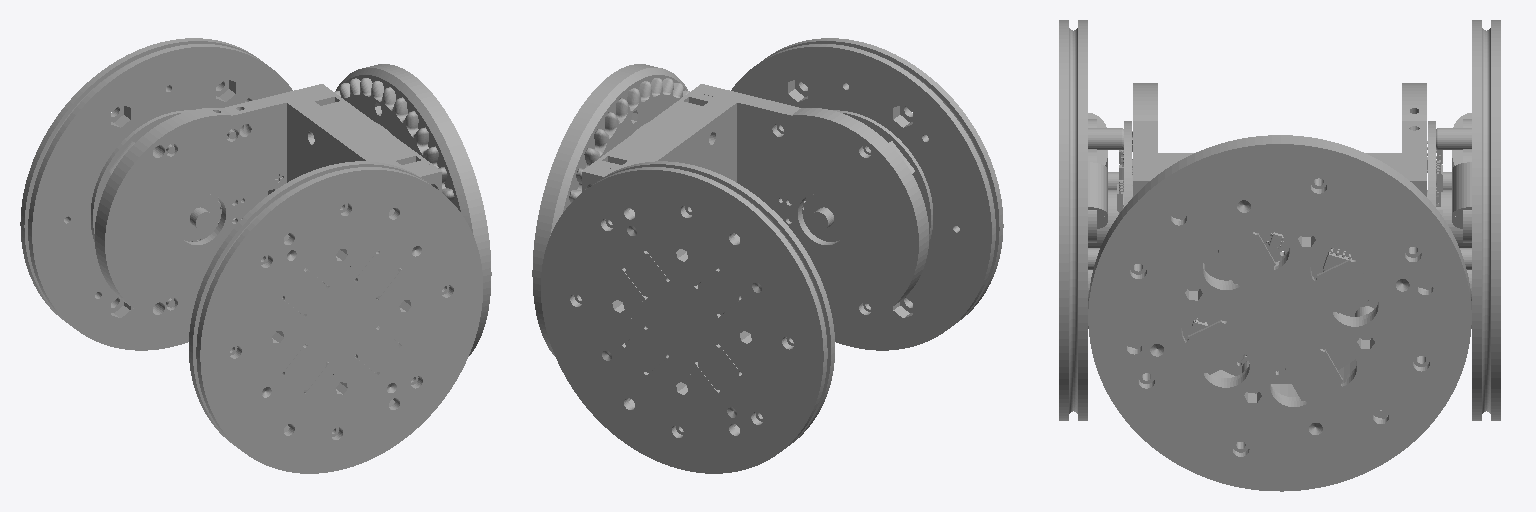
robot.urdf — SMORES_EP_V4.2.0_URDF:
<?xml version='1.0' encoding='utf-8'?>
<robot name="SMORES_EP_V4.2.0_URDF">
  <mujoco>
    <compiler discardvisual="false" />
  </mujoco>
  <material name="silver">
    <color rgba="0.700 0.700 0.700 1.000" />
  </material>
  <gazebo reference="base_link">
    <material>Gazebo/Silver</material>
    <mu1>0.2</mu1>
    <mu2>0.2</mu2>
    <self_collide>true</self_collide>
    <gravity>true</gravity>
  </gazebo>
  <gazebo reference="left_wheel_1">
    <material>Gazebo/Silver</material>
    <mu1>0.2</mu1>
    <mu2>0.2</mu2>
    <self_collide>true</self_collide>
  </gazebo>
  <gazebo reference="right_wheel_1">
    <material>Gazebo/Silver</material>
    <mu1>0.2</mu1>
    <mu2>0.2</mu2>
    <self_collide>true</self_collide>
  </gazebo>
  <gazebo reference="tilt_body_1">
    <material>Gazebo/Silver</material>
    <mu1>0.2</mu1>
    <mu2>0.2</mu2>
    <self_collide>true</self_collide>
  </gazebo>
  <gazebo reference="front_wheel_1">
    <material>Gazebo/Silver</material>
    <mu1>0.2</mu1>
    <mu2>0.2</mu2>
    <self_collide>true</self_collide>
  </gazebo>
  <link name="base_link">
    <inertial>
      <origin rpy="0 0 0" xyz="0.0031489501883319535 -0.00016602533535364005 3.359366217456069e-05" />
      <mass value="0.21126729893698074" />
      <inertia ixx="0.000219" ixy="1e-06" ixz="0.0" iyy="0.000154" iyz="0.0" izz="0.000153" />
    </inertial>
    <visual>
      <origin rpy="0 0 0" xyz="0 0 0" />
      <geometry>
        <mesh filename="../meshes/base_link.stl" scale="0.001 0.001 0.001" />
      </geometry>
      <material name="silver" />
    </visual>
    <collision name="bottom_face_proxy">
      <origin rpy="0 0 0" xyz="-0.006741577148 0 0" />
      <geometry>
        <mesh filename="../collision_meshes/bottom_face_box.obj" scale="0.008 0.0651 0.0708856" />
      </geometry>
    </collision>
  </link>
  <link name="left_wheel_1">
    <inertial>
      <origin rpy="0 0 0" xyz="1.4285802414214233e-05 0.039323422658391796 1.1707051038491707e-05" />
      <mass value="0.07722957032161351" />
      <inertia ixx="1.8e-05" ixy="0.0" ixz="0.0" iyy="3.3e-05" iyz="0.0" izz="1.8e-05" />
    </inertial>
    <visual>
      <origin rpy="0 0 0" xyz="-0.034458 -0.0 -0.0" />
      <geometry>
        <mesh filename="../meshes/left_wheel_1.stl" scale="0.001 0.001 0.001" />
      </geometry>
      <material name="silver" />
    </visual>
    <collision name="left_face_proxy">
      <origin rpy="0 0 0" xyz="0 0.04005 0" />
      <geometry>
        <mesh filename="../collision_meshes/left_face_box.obj" scale="0.075 0.008 0.075" />
      </geometry>
    </collision>
  </link>
  <link name="right_wheel_1">
    <inertial>
      <origin rpy="0 0 0" xyz="1.4282394199163773e-05 -0.039323422411277516 -1.1710095128829764e-05" />
      <mass value="0.07722950784796127" />
      <inertia ixx="1.8e-05" ixy="-0.0" ixz="-0.0" iyy="3.3e-05" iyz="0.0" izz="1.8e-05" />
    </inertial>
    <visual>
      <origin rpy="0 0 0" xyz="-0.034458 -0.0 -0.0" />
      <geometry>
        <mesh filename="../meshes/right_wheel_1.stl" scale="0.001 0.001 0.001" />
      </geometry>
      <material name="silver" />
    </visual>
    <collision name="right_face_proxy">
      <origin rpy="0 0 0" xyz="0 -0.04005 0" />
      <geometry>
        <mesh filename="../collision_meshes/right_face_box.obj" scale="0.075 0.008 0.075" />
      </geometry>
    </collision>
  </link>
  <link name="tilt_body_1">
    <inertial>
      <origin rpy="0 0 0" xyz="0.018880520013409244 -0.00021423502177737798 6.95488508724099e-05" />
      <mass value="0.041194439942392795" />
      <inertia ixx="3.2e-05" ixy="-0.0" ixz="-0.0" iyy="2.4e-05" iyz="0.0" izz="3.3e-05" />
    </inertial>
    <visual>
      <origin rpy="0 0 0" xyz="-0.034458 -0.0 -0.0" />
      <geometry>
        <mesh filename="../meshes/tilt_body_1.stl" scale="0.001 0.001 0.001" />
      </geometry>
      <material name="silver" />
    </visual>
  </link>
  <link name="front_wheel_1">
    <inertial>
      <origin rpy="0 0 0" xyz="0.0006570820646822212 2.8637889182632384e-05 -5.061828486081447e-05" />
      <mass value="0.031715980738751155" />
      <inertia ixx="2.3e-05" ixy="0.0" ixz="-0.0" iyy="1.2e-05" iyz="-0.0" izz="1.2e-05" />
    </inertial>
    <visual>
      <origin rpy="0 0 0" xyz="-0.07437 -0.0 0.0" />
      <geometry>
        <mesh filename="../meshes/front_wheel_1.stl" scale="0.001 0.001 0.001" />
      </geometry>
      <material name="silver" />
    </visual>
    <collision name="pan_face_proxy">
      <origin rpy="0 0 0" xyz="0.001762 0 0" />
      <geometry>
        <mesh filename="../collision_meshes/pan_face_box.obj" scale="0.008 0.07 0.07" />
      </geometry>
    </collision>
  </link>
  <joint name="joint_left_wheel" type="continuous">
    <origin rpy="0 0 0" xyz="0.034458 0.0 0.0" />
    <parent link="base_link" />
    <child link="left_wheel_1" />
    <axis xyz="0.0 1.0 0.0" />
  </joint>
  <joint name="joint_right_wheel" type="continuous">
    <origin rpy="0 0 0" xyz="0.034458 0.0 0.0" />
    <parent link="base_link" />
    <child link="right_wheel_1" />
    <axis xyz="0.0 1.0 0.0" />
  </joint>
  <joint name="joint_tilt" type="revolute">
    <origin rpy="0 0 0" xyz="0.034458 0.0 0.0" />
    <parent link="base_link" />
    <child link="tilt_body_1" />
    <axis xyz="0.0 1.0 0.0" />
    <limit effort="100" lower="-1.570796" upper="1.570796" velocity="100" />
  </joint>
  <joint name="joint_pan" type="continuous">
    <origin rpy="0 0 0" xyz="0.039912 0.0 -0.0" />
    <parent link="tilt_body_1" />
    <child link="front_wheel_1" />
    <axis xyz="1.0 0.0 0.0" />
  </joint>
</robot>

--- Facts derived from the render (not from the file) ---
3 views of the same robot in one strip: view 1: azimuth 30°, elevation 25°; view 2: azimuth 150°, elevation 25°; view 3: azimuth 270°, elevation 25° (orthographic).
Model SMORES_EP_V4.2.0_URDF with 5 links and 4 joints (1 revolute, 3 continuous), rooted at base_link, posed all joints at 0.
Visible links, largest first — view 1: right_wheel_1, tilt_body_1, left_wheel_1, front_wheel_1; view 2: left_wheel_1, tilt_body_1, right_wheel_1, front_wheel_1; view 3: front_wheel_1, left_wheel_1, right_wheel_1, tilt_body_1.
Boxes of the visible links, <box> form: right_wheel_1: <box>189,161,482,473</box>; tilt_body_1: <box>95,84,441,323</box>; left_wheel_1: <box>20,38,292,350</box>; front_wheel_1: <box>335,64,491,355</box>; left_wheel_1: <box>541,161,834,473</box>; tilt_body_1: <box>582,84,928,323</box>; right_wheel_1: <box>731,38,1003,350</box>; front_wheel_1: <box>532,64,689,355</box>; front_wheel_1: <box>1088,135,1471,491</box>; left_wheel_1: <box>1427,20,1500,420</box>; right_wheel_1: <box>1059,20,1132,420</box>; tilt_body_1: <box>1133,83,1426,396</box>.
Size in the robot's own frame: 0.0857 by 0.0881 by 0.08 metres.
Meshes: 5 distinct files referenced, 4 mesh visuals loaded (4 binary STL); not drawn: 1 (reference not matched to a file when rendering).
